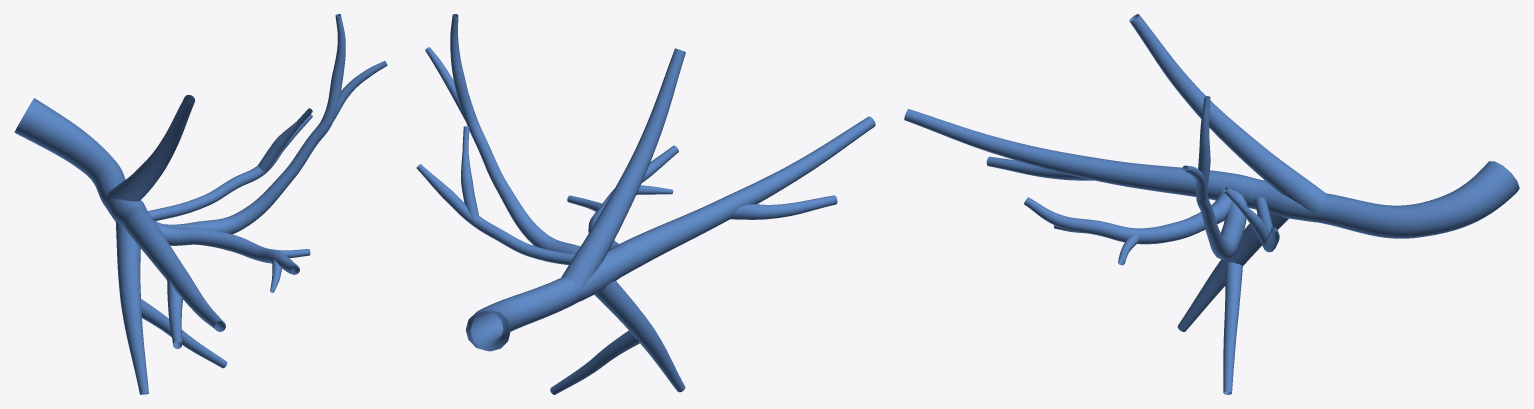
3 views of the same model, side by side, from view 1: azimuth 30°, elevation 25°; view 2: azimuth 150°, elevation 25°; view 3: azimuth 270°, elevation 25° (orthographic). The views are drawn at different scales.
Parts seen in each view (by area): view 1: 左肺尖后静脉; view 2: 左肺尖后静脉; view 3: 左肺尖后静脉.
Part boxes in pixels (x1,y1,x2,y2): 左肺尖后静脉: (14,14,387,394); 左肺尖后静脉: (416,14,875,394); 左肺尖后静脉: (904,14,1519,394).
Size of the model in its own units: 0.0907 by 0.0946 by 0.1494.
